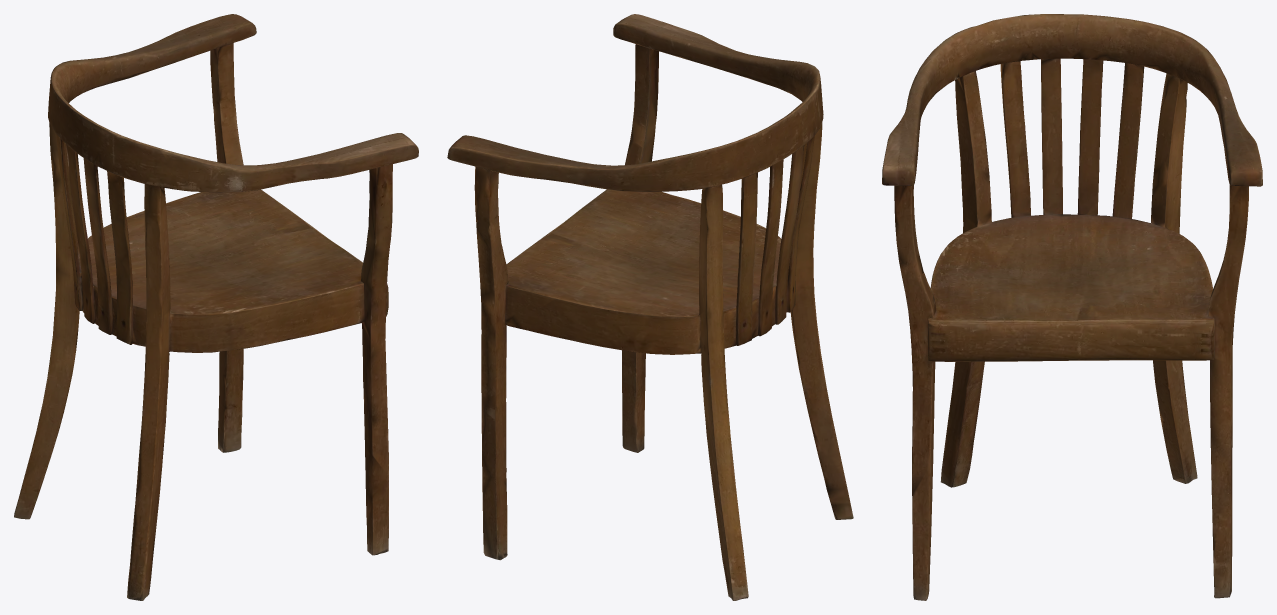
The model's file is wood_chair.glb.
The picture shows the model from 3 angles, left to right: view 1: azimuth 30°, elevation 25°; view 2: azimuth 150°, elevation 25°; view 3: azimuth 270°, elevation 25°; orthographic projection. The views are drawn at different scales.
Parts seen in each view (by area): view 1: ukmlcaoaw_tier_2; view 2: ukmlcaoaw_tier_2; view 3: ukmlcaoaw_tier_2.
Boxes of the visible parts, x1,y1,x2,y2 form: ukmlcaoaw_tier_2: [14, 14, 418, 600]; ukmlcaoaw_tier_2: [447, 14, 853, 600]; ukmlcaoaw_tier_2: [882, 14, 1262, 600].
Bounding box in the file's own units: 0.4637 × 0.7422 × 0.5482.
Materials: 1 (1 with a texture image).
